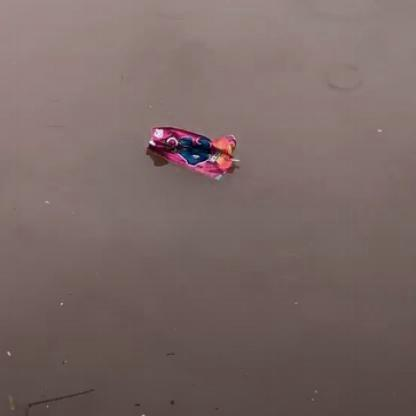Trash: (150, 123, 234, 166)
